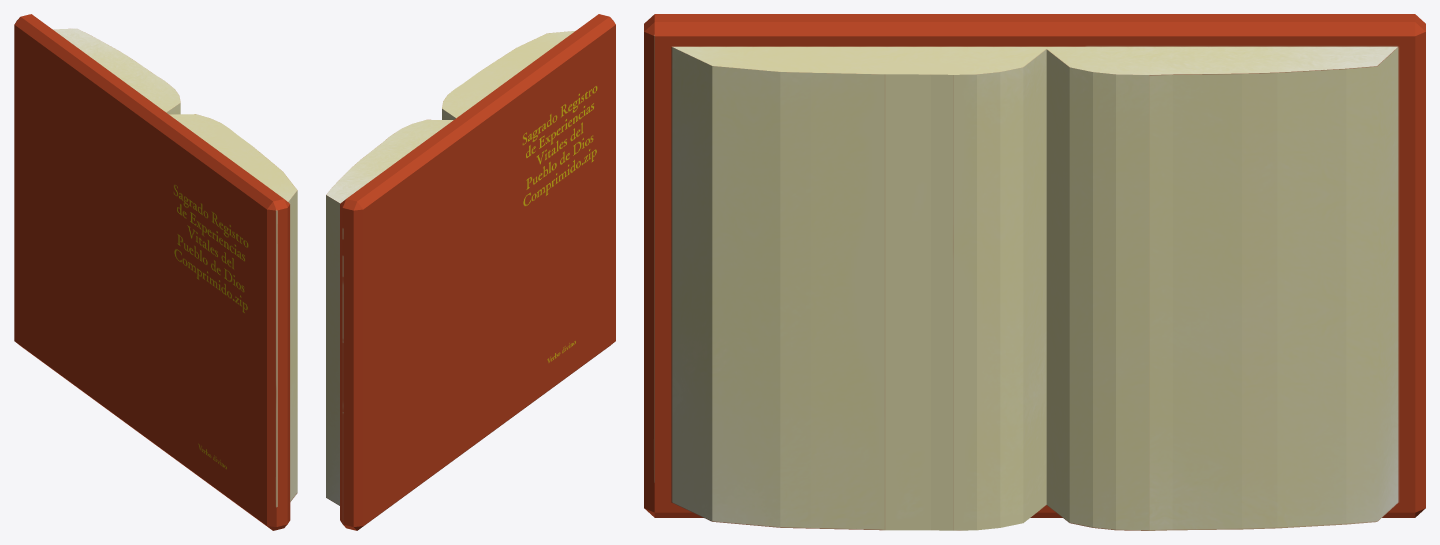
Rendered from Libro2.fbx.
3 renders of one model, left to right at view 1: azimuth 30°, elevation 25°; view 2: azimuth 150°, elevation 25°; view 3: azimuth 270°, elevation 25°, orthographic. The views are drawn at different scales.
Parts seen in each view (by area): view 1: Cube; view 2: Cube; view 3: Cube.
Part boxes in pixels (x1,y1,x2,y2): Cube: (14, 14, 297, 530); Cube: (326, 14, 615, 530); Cube: (644, 14, 1425, 530).
Size of the model in its own units: 27.65 by 140 by 200.
